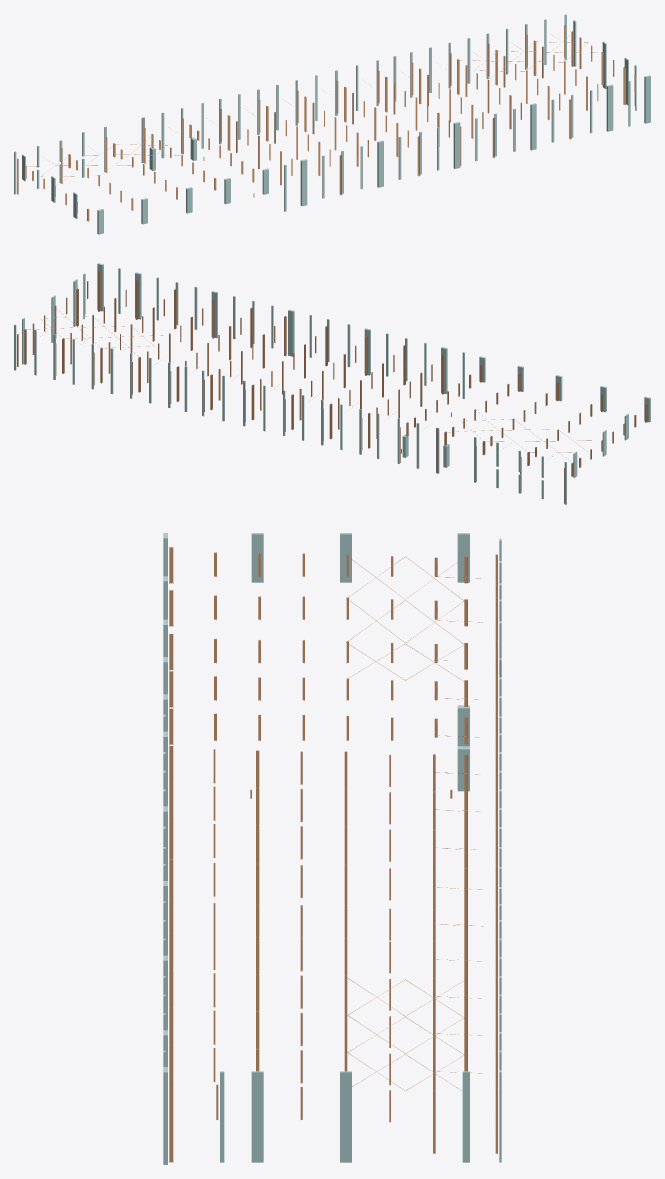
The model's file is detail-support-4-3f.glb.
3 renders of one model, top to bottom at view 1: azimuth 30°, elevation 25°; view 2: azimuth 150°, elevation 25°; view 3: azimuth 270°, elevation 25°, orthographic. The views are drawn at different scales.
Size of the model in its own units: 104 by 8.33 by 27.6.
